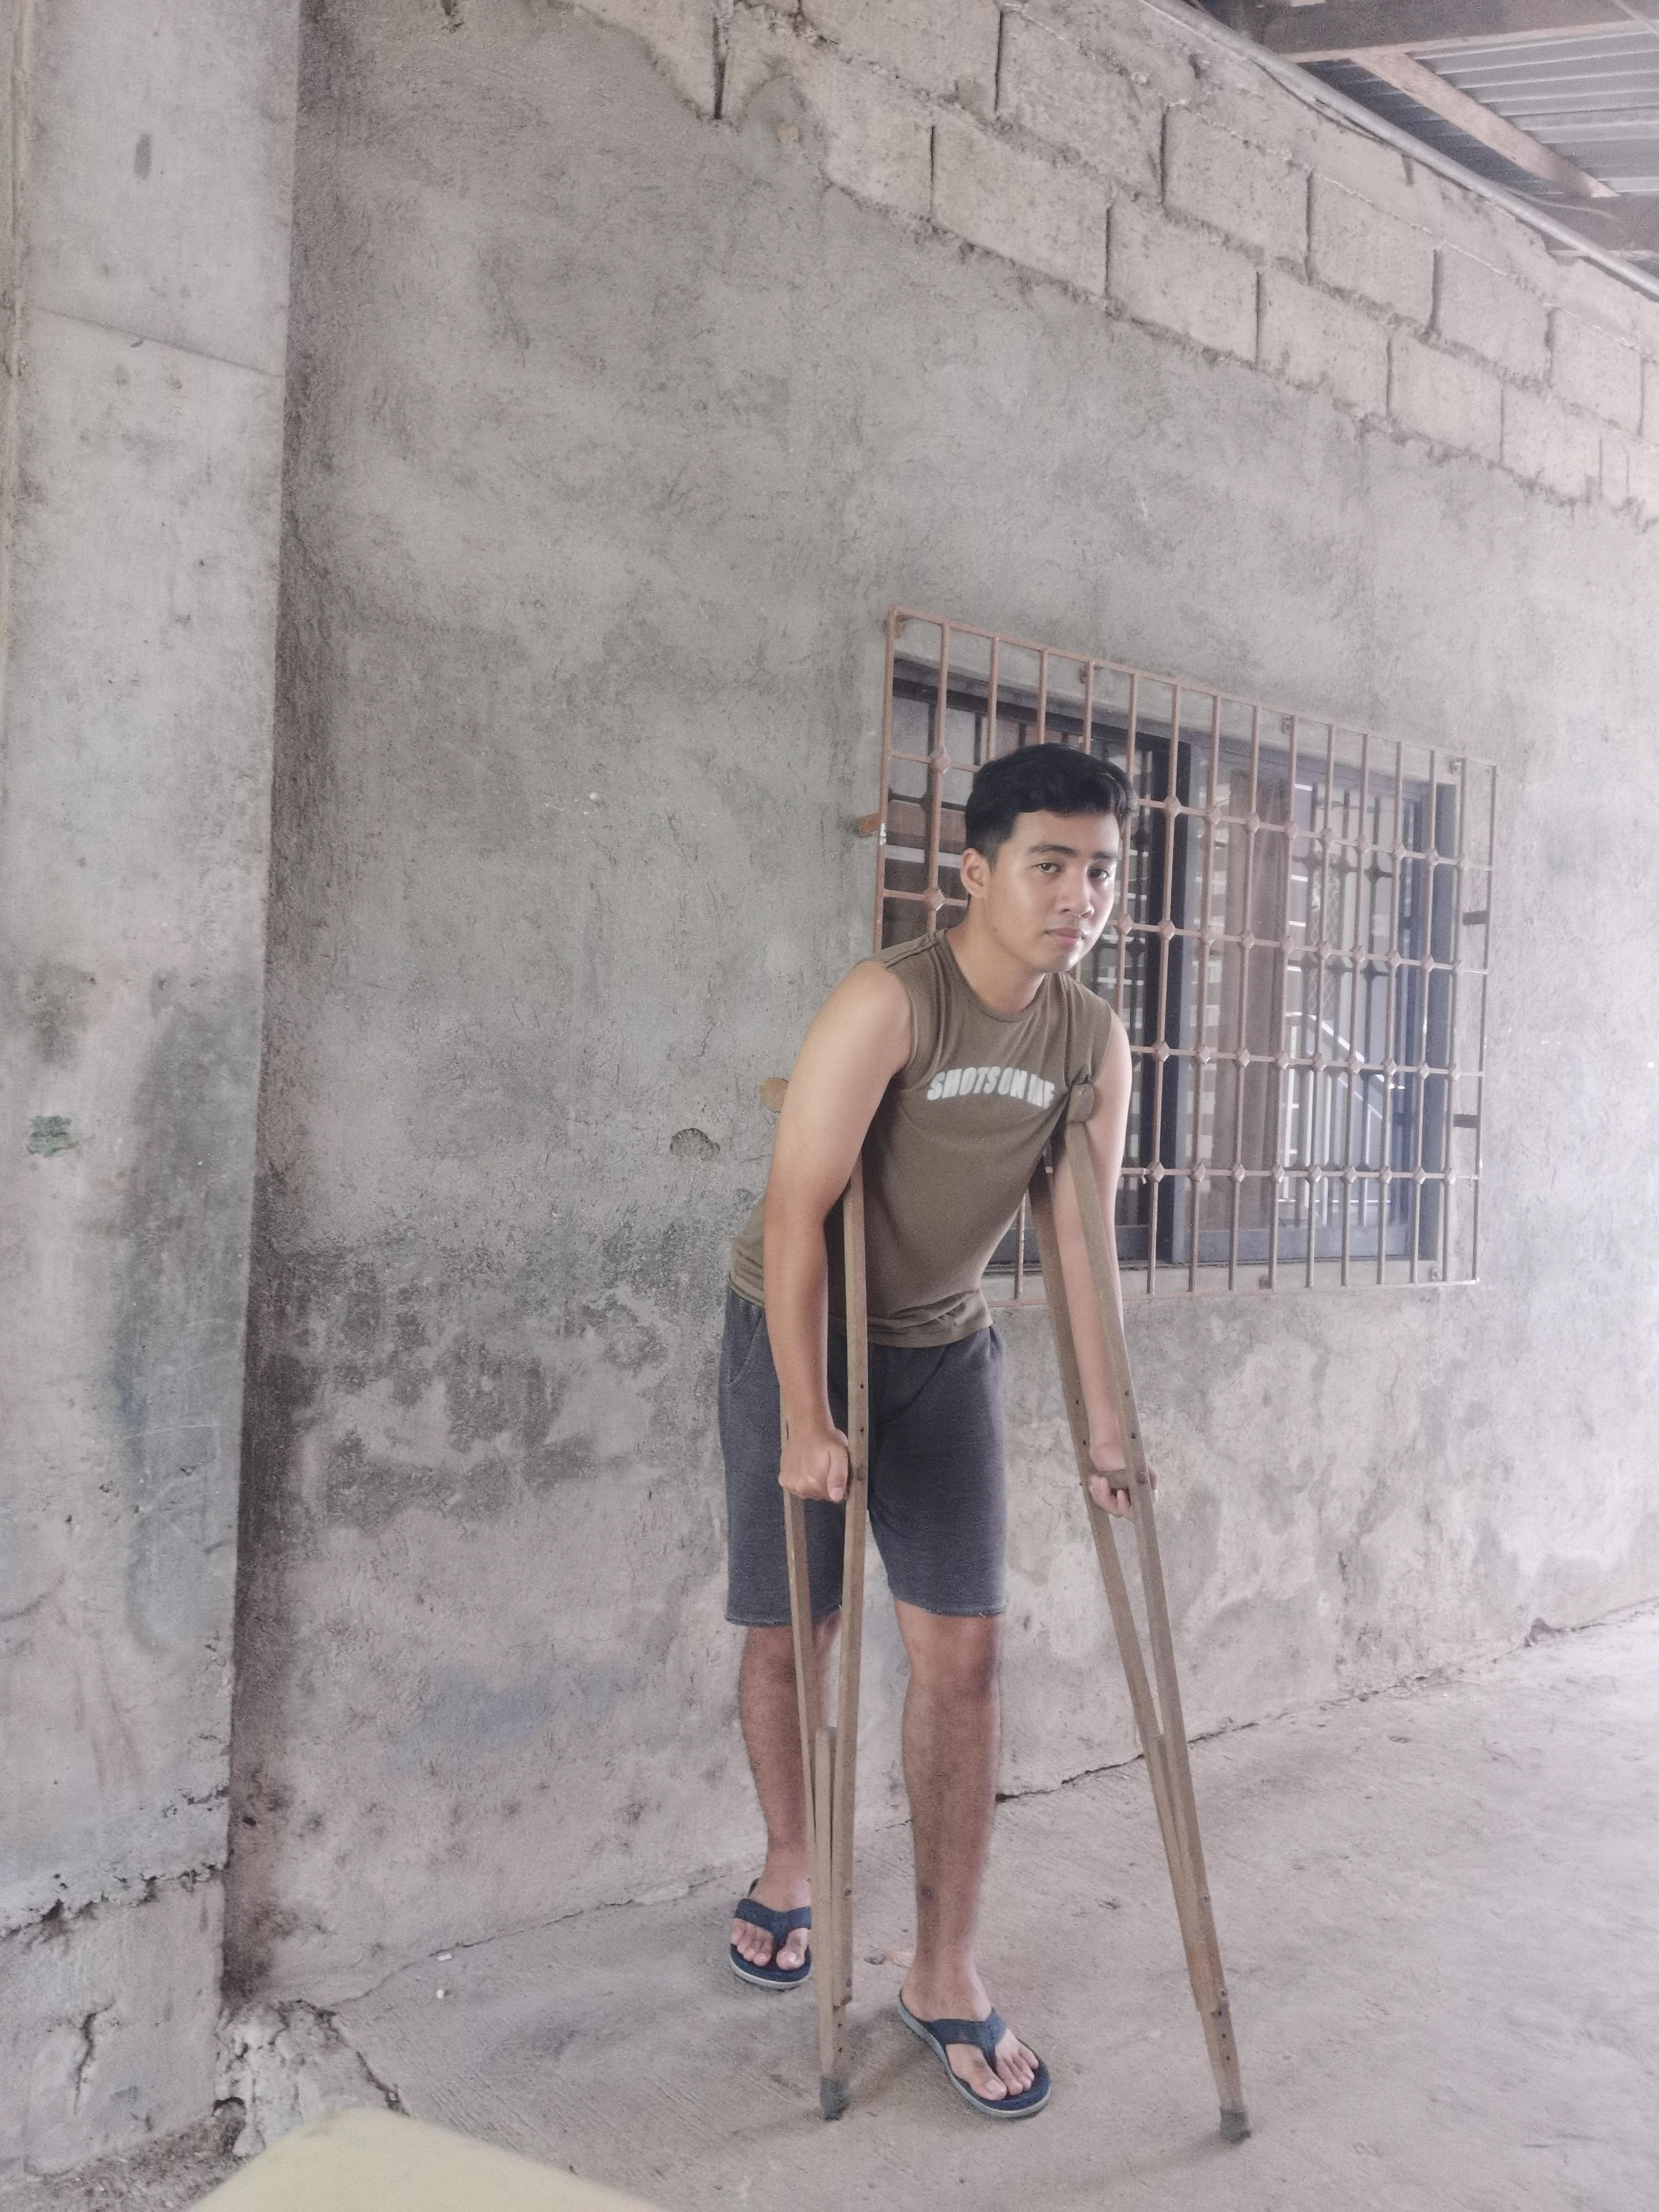crutches: (697, 716, 1279, 2177)
